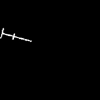double_crochet: (1, 29, 30, 41)
